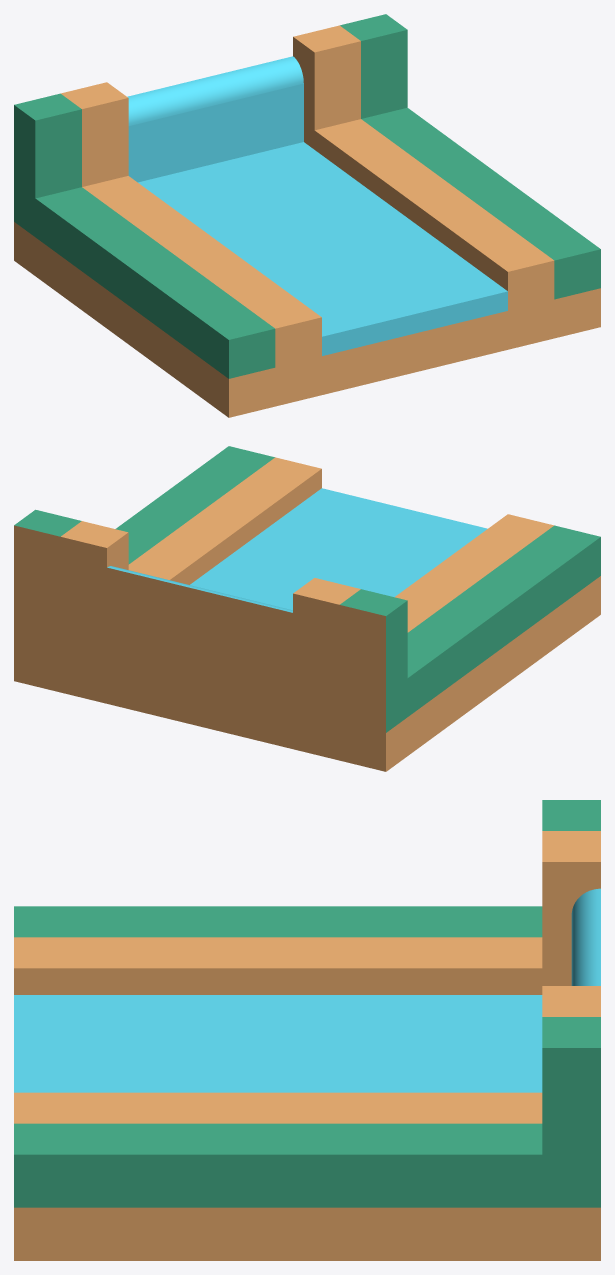
Rendered from tile_riverFall.dae.
3 renders of one model, top to bottom at view 1: azimuth 30°, elevation 25°; view 2: azimuth 150°, elevation 25°; view 3: azimuth 270°, elevation 25°, orthographic. The views are drawn at different scales.
Parts seen in each view (by area): view 1: tile_riverFall; view 2: tile_riverFall; view 3: tile_riverFall.
Boxes of the visible parts, x1,y1,x2,y2 form: tile_riverFall: (14,14,600,417); tile_riverFall: (14,446,600,771); tile_riverFall: (14,800,600,1260).
Bounding box in the file's own units: 1 × 0.4 × 1.
